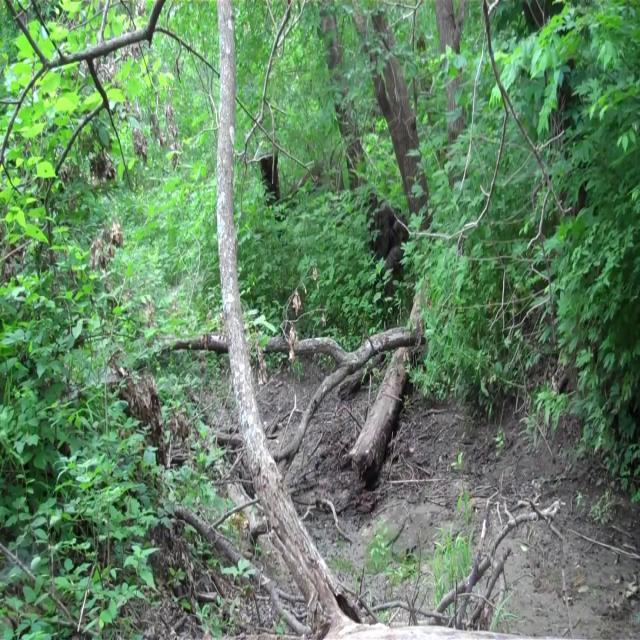MIL_Pax: (364, 186, 410, 317)
